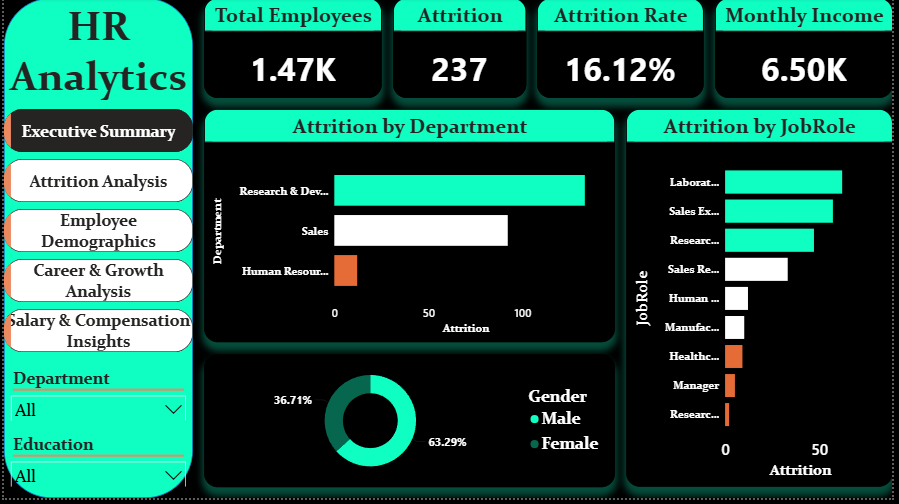

The dashboard page shown, as its layout file describes it:
{"tool":"powerbi","page":{"name":"Executive Summary","canvas":[1280,720],"ordinal":0},"visuals":[{"type":"group","id":"g1","title":"Group 1","box":[0,0,272,720],"z":0},{"type":"shape","box":[0,0,272,720],"z":0,"group":"g1"},{"type":"textbox","box":[0,0,272,160],"z":1000,"group":"g1"},{"type":"cardVisual","title":"Total Employees","fields":{"Data":["Count(HR-Employee-Attrition (1).EmployeeNumber)"]},"box":[288,0,256,144],"z":1000},{"type":"cardVisual","title":"Attrition","fields":{"Data":["HR-Employee-Attrition (1).Attrition count"]},"box":[560,0,192,144],"z":2000},{"type":"pageNavigator","box":[0,160,272,352],"z":2000,"group":"g1"},{"type":"cardVisual","title":"Attrition Rate","fields":{"Data":["HR-Employee-Attrition (1).Attrition Rate"]},"box":[768,0,240,144],"z":3000},{"type":"slicer","fields":{"Values":["HR-Employee-Attrition (1).Department"]},"box":[0,528,272,80],"z":3000,"group":"g1"},{"type":"cardVisual","title":"Monthly Income","fields":{"Data":["Avg(HR-Employee-Attrition (1).MonthlyIncome)"]},"box":[1024,0,256,144],"z":4000},{"type":"slicer","fields":{"Values":["HR-Employee-Attrition (1).Education"]},"box":[0,624,272,80],"z":4000,"group":"g1"},{"type":"clusteredBarChart","title":"Attrition by Department","fields":{"Category":["HR-Employee-Attrition (1).Department"],"Y":["HR-Employee-Attrition (1).Attrition count"]},"box":[288,160,592,336],"z":5000},{"type":"donutChart","fields":{"Category":["HR-Employee-Attrition (1).Gender"],"Y":["HR-Employee-Attrition (1).Attrition count"]},"box":[288,512,592,192],"z":6000},{"type":"barChart","title":"Attrition by JobRole","fields":{"Category":["HR-Employee-Attrition (1).JobRole"],"Y":["HR-Employee-Attrition (1).Attrition count"]},"box":[896,160,384,544],"z":7000}]}

Visuals, with their boxes in screenshot pixels (x1, y1, x2, y2), scaled from the page's 1280x720 canvas onto the 899x504 screenshot:
"Group 1" group: rect(0, 0, 191, 503)
shape: rect(0, 0, 191, 503)
textbox: rect(0, 0, 191, 112)
"Total Employees" cardVisual: rect(202, 0, 382, 101)
"Attrition" cardVisual: rect(393, 0, 528, 101)
pageNavigator: rect(0, 112, 191, 358)
"Attrition Rate" cardVisual: rect(539, 0, 708, 101)
slicer - HR-Employee-Attrition (1).Department: rect(0, 370, 191, 426)
"Monthly Income" cardVisual: rect(719, 0, 898, 101)
slicer - HR-Employee-Attrition (1).Education: rect(0, 437, 191, 493)
"Attrition by Department" clusteredBarChart: rect(202, 112, 618, 347)
donutChart - HR-Employee-Attrition (1).Gender x HR-Employee-Attrition (1).Attrition count: rect(202, 358, 618, 493)
"Attrition by JobRole" barChart: rect(629, 112, 898, 493)
